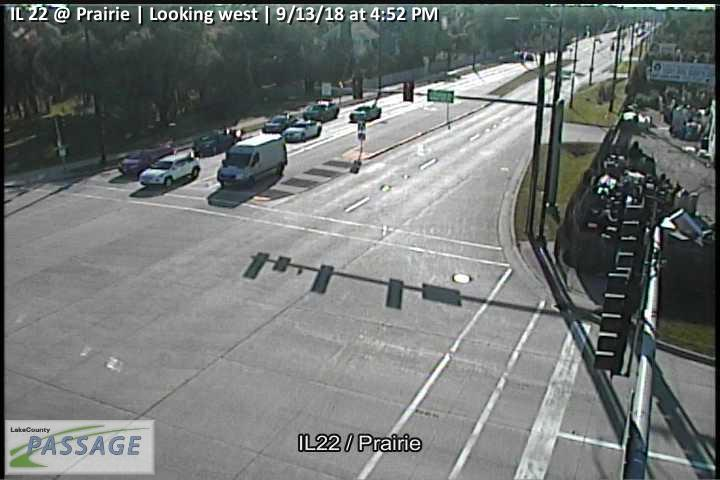Sedan: (139, 153, 200, 188), (117, 143, 177, 174), (193, 131, 238, 159), (282, 118, 322, 144), (303, 98, 341, 122), (259, 111, 300, 133), (348, 103, 381, 124)
Truck: (216, 133, 288, 189)
